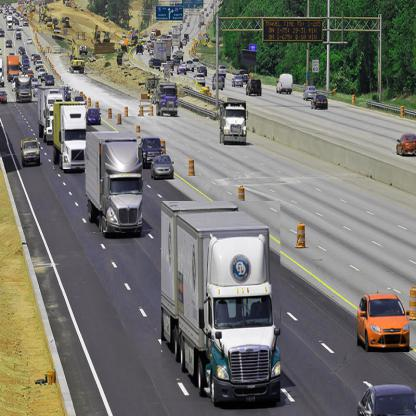car: (358, 290, 411, 354), (359, 385, 416, 416), (151, 155, 176, 180), (138, 137, 162, 160), (23, 141, 42, 170), (393, 134, 416, 156), (276, 74, 295, 95), (247, 80, 263, 97), (312, 97, 329, 111), (90, 109, 102, 126), (214, 77, 226, 92), (303, 87, 317, 99), (218, 63, 228, 76), (233, 77, 244, 87), (197, 74, 206, 85), (178, 65, 187, 75), (2, 92, 8, 106), (188, 60, 193, 73), (195, 57, 200, 70), (47, 77, 55, 85), (6, 42, 14, 50), (38, 71, 46, 78), (36, 62, 43, 69), (16, 34, 22, 42), (27, 39, 32, 46), (24, 60, 29, 66)
container: (162, 202, 282, 404), (83, 133, 144, 234), (55, 105, 88, 171), (8, 57, 20, 77), (7, 18, 13, 32)
truck: (220, 104, 248, 145), (156, 87, 179, 118), (15, 77, 34, 103), (156, 43, 168, 64)
